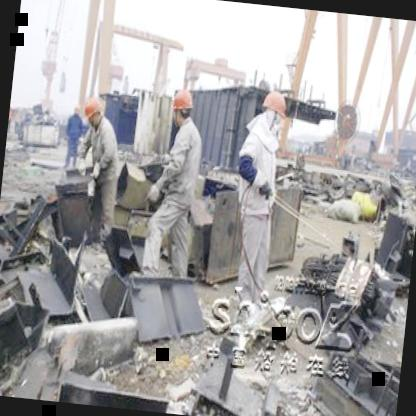helmet: (258, 85, 291, 131), (168, 87, 195, 129), (78, 92, 108, 128)
